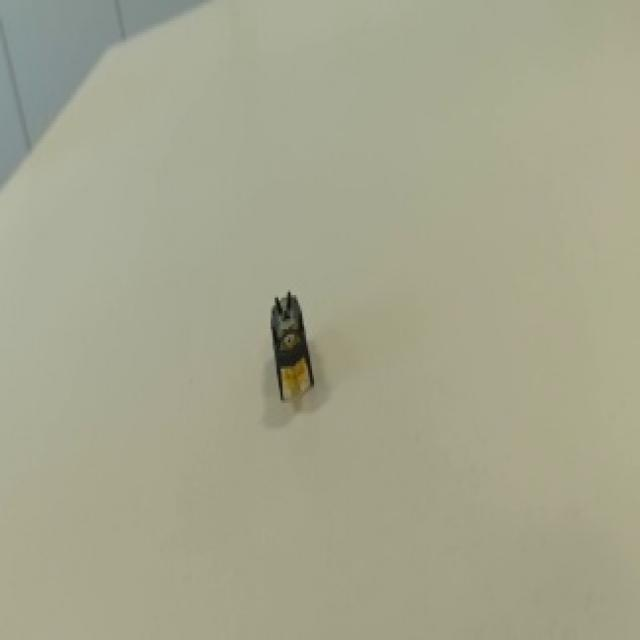6_NanoBug_GrisOscuro: (249, 253, 336, 435)
